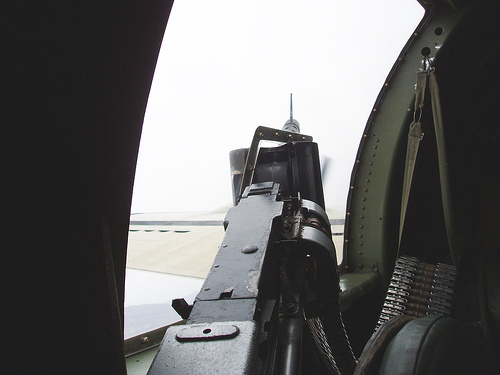rifle: (209, 80, 363, 352)
